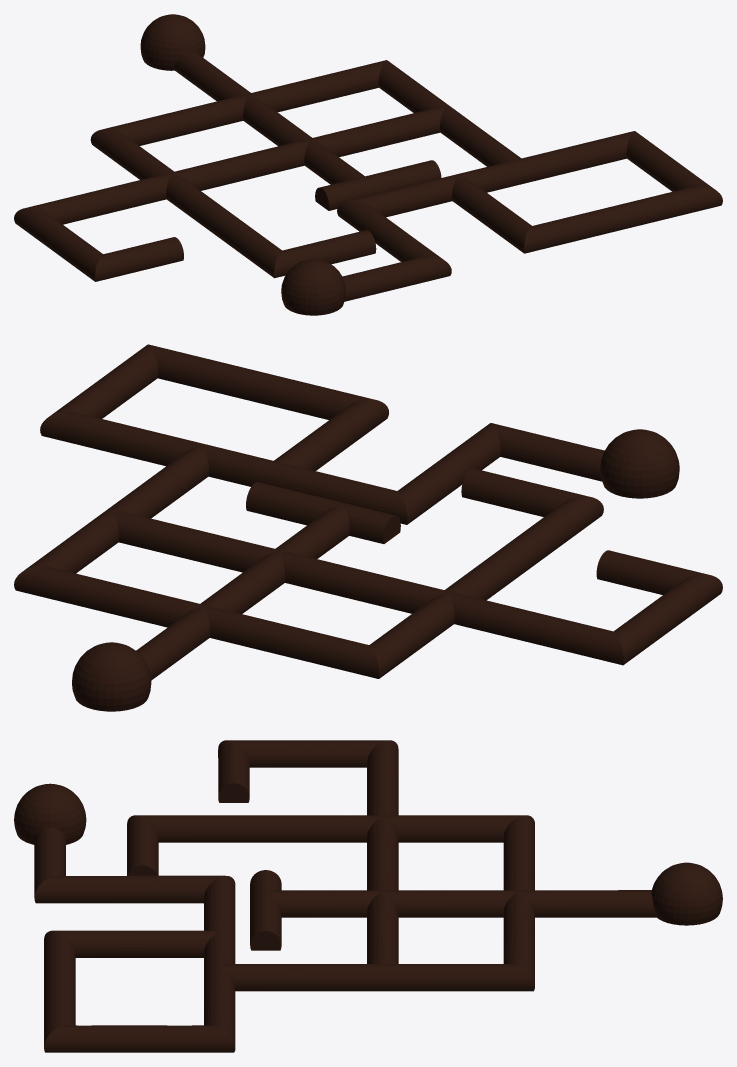
File: StageNo_08.obj
3 views of the same model, one above another, from view 1: azimuth 30°, elevation 25°; view 2: azimuth 150°, elevation 25°; view 3: azimuth 270°, elevation 25° (orthographic). The views are drawn at different scales.
Visible parts, largest first — view 1: Stage.Cave; view 2: Stage.Cave; view 3: Stage.Cave.
Part boxes in pixels (bbox=[...]): Stage.Cave: bbox=[14, 14, 722, 315]; Stage.Cave: bbox=[14, 344, 722, 711]; Stage.Cave: bbox=[14, 740, 722, 1052].
Bounding box in the file's own units: 44.79 × 3.18 × 44.95.
